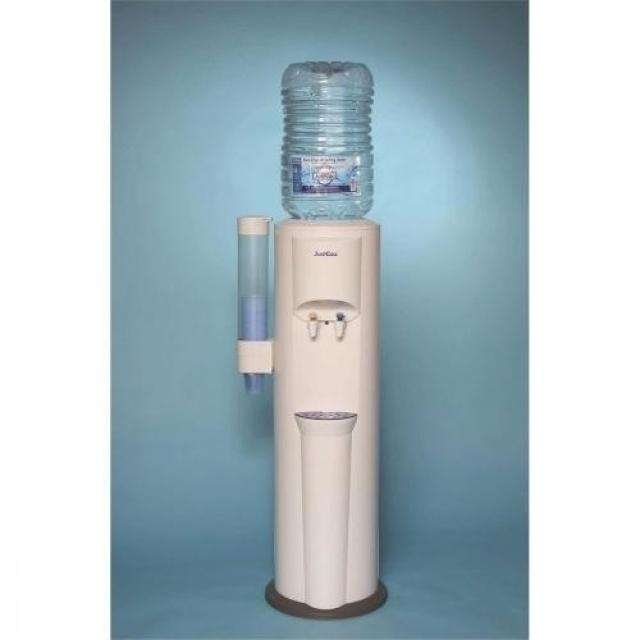Dispenser: (263, 59, 389, 620)
